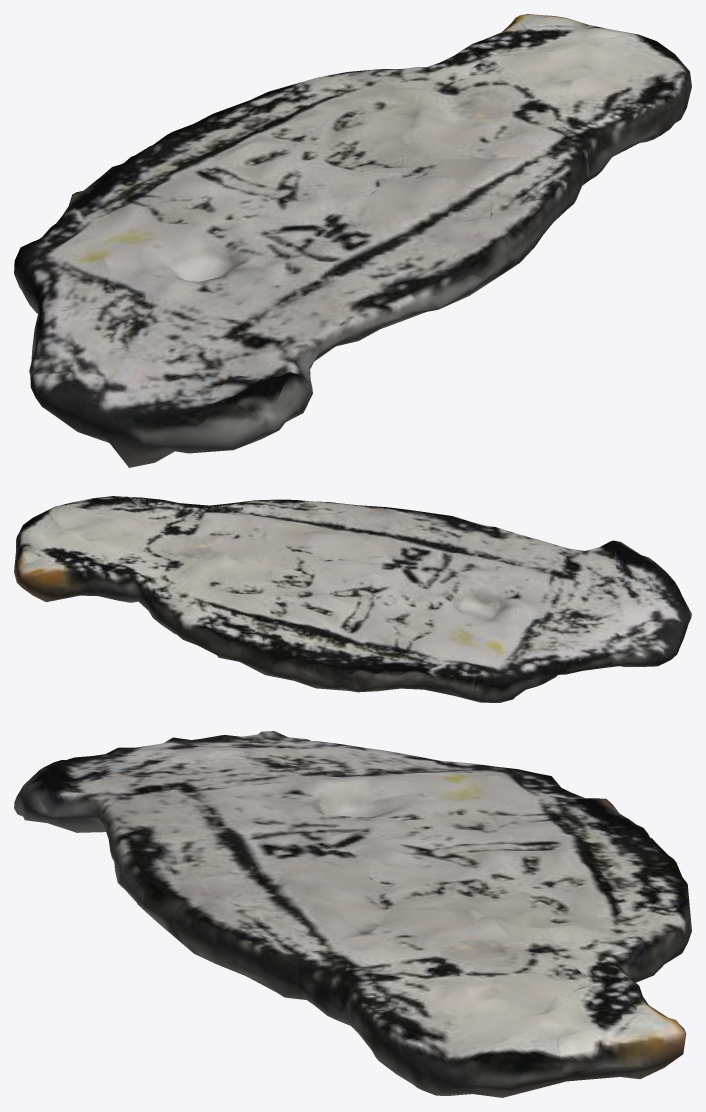
File: hall.glb
3 renders of one model, top to bottom at view 1: azimuth 30°, elevation 25°; view 2: azimuth 150°, elevation 25°; view 3: azimuth 270°, elevation 25°, orthographic. The views are drawn at different scales.
Bounding box in the file's own units: 0.879 × 0.1604 × 0.5959.
1 material, 1 textured.
